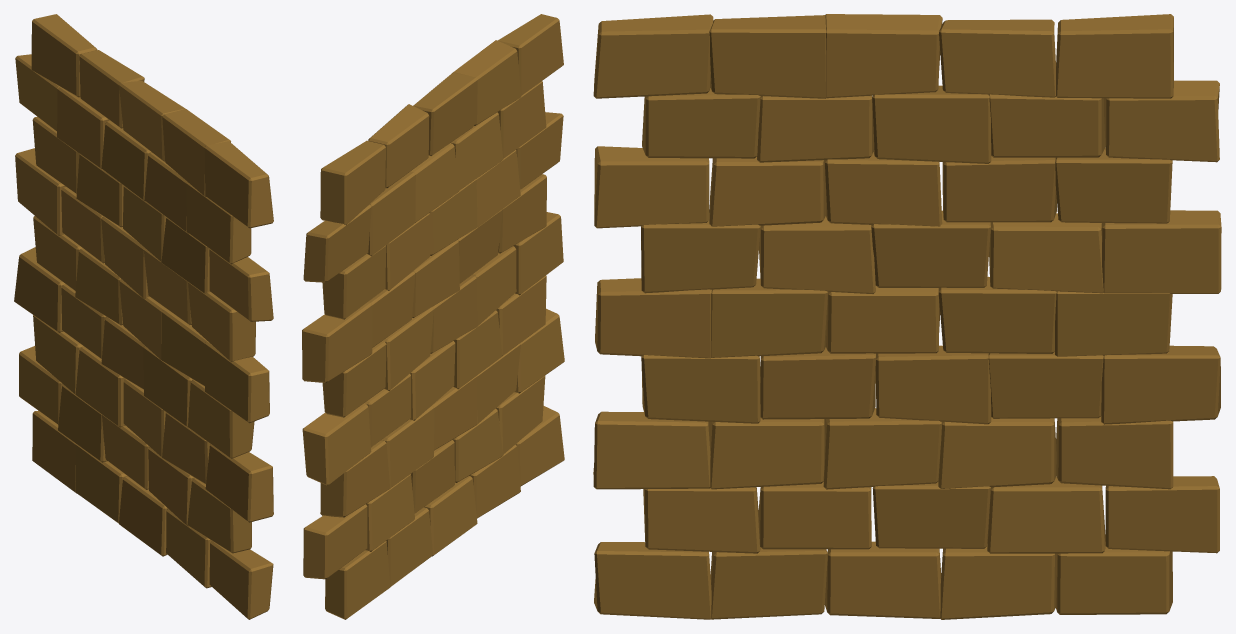
File: BrickWall-Sandstone.fbx
3 views of the same model, side by side, from view 1: azimuth 30°, elevation 25°; view 2: azimuth 150°, elevation 25°; view 3: azimuth 270°, elevation 25° (orthographic). The views are drawn at different scales.
Parts seen in each view (by area): view 1: Cube; view 2: Cube; view 3: Cube.
Part boxes in pixels (x1,y1,x2,y2): Cube: [14, 14, 273, 619]; Cube: [302, 14, 564, 619]; Cube: [593, 14, 1221, 619].
Size of the model in its own units: 57.73 by 907 by 874.
